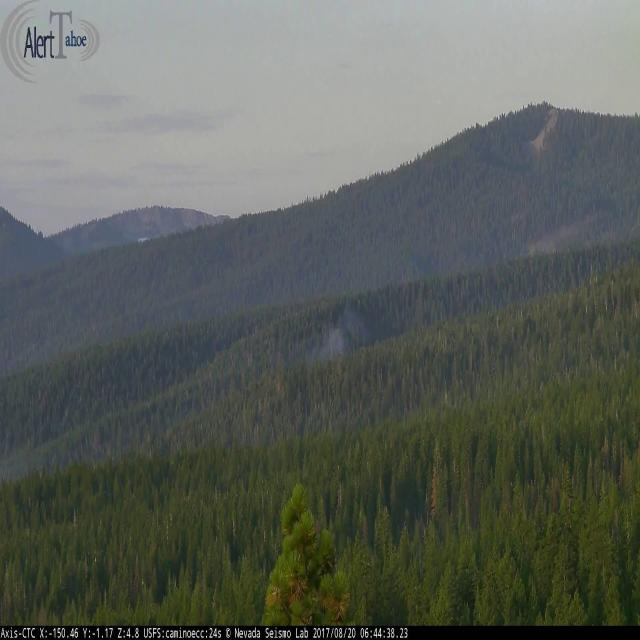smoke: (296, 296, 408, 369)
